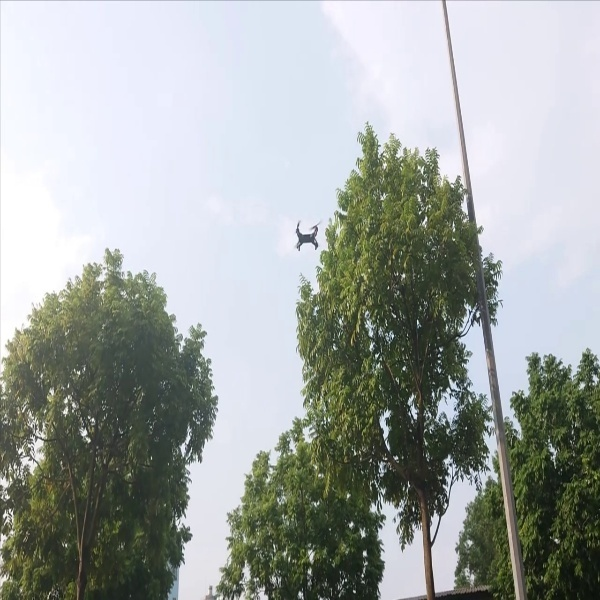drone: (278, 213, 330, 253)
